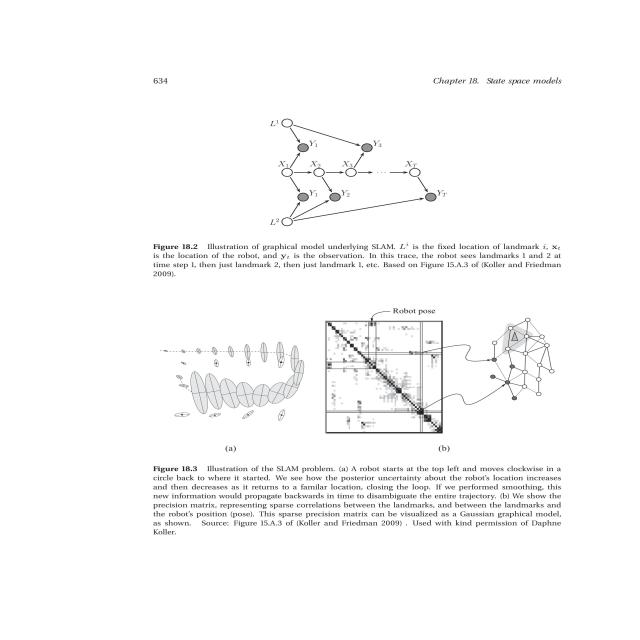diagram: (103, 111, 587, 570)
